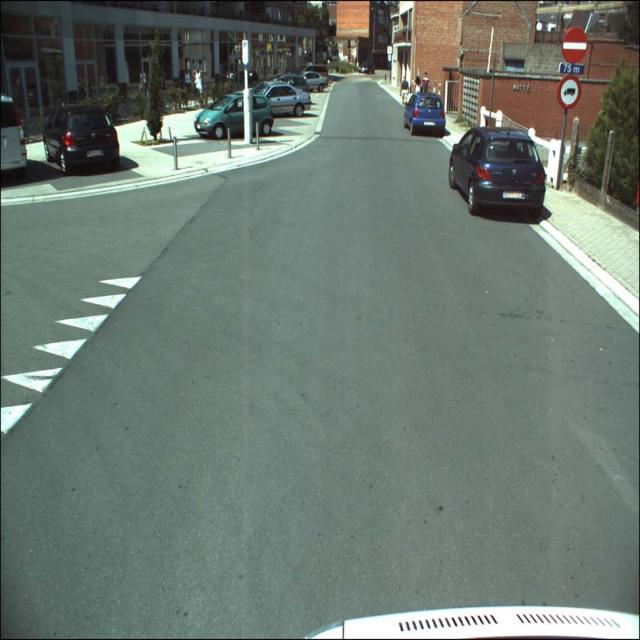girisyok: (563, 28, 588, 63)
